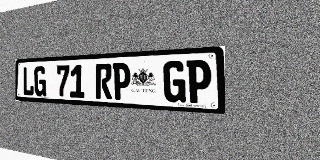1: (70, 64, 84, 98)
7: (56, 65, 69, 97)
G: (163, 60, 186, 103), (34, 66, 46, 96)
L: (23, 66, 34, 96)
P: (187, 59, 211, 104), (113, 63, 130, 100)
R: (96, 63, 112, 99)
